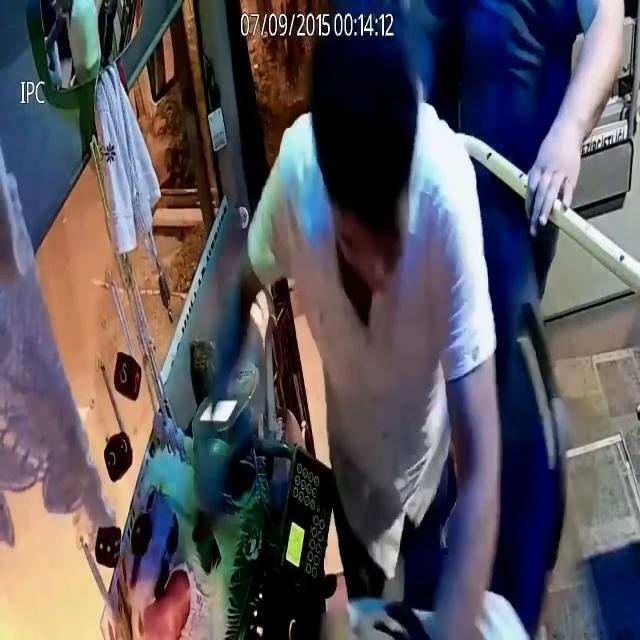fight: (235, 24, 507, 640)
